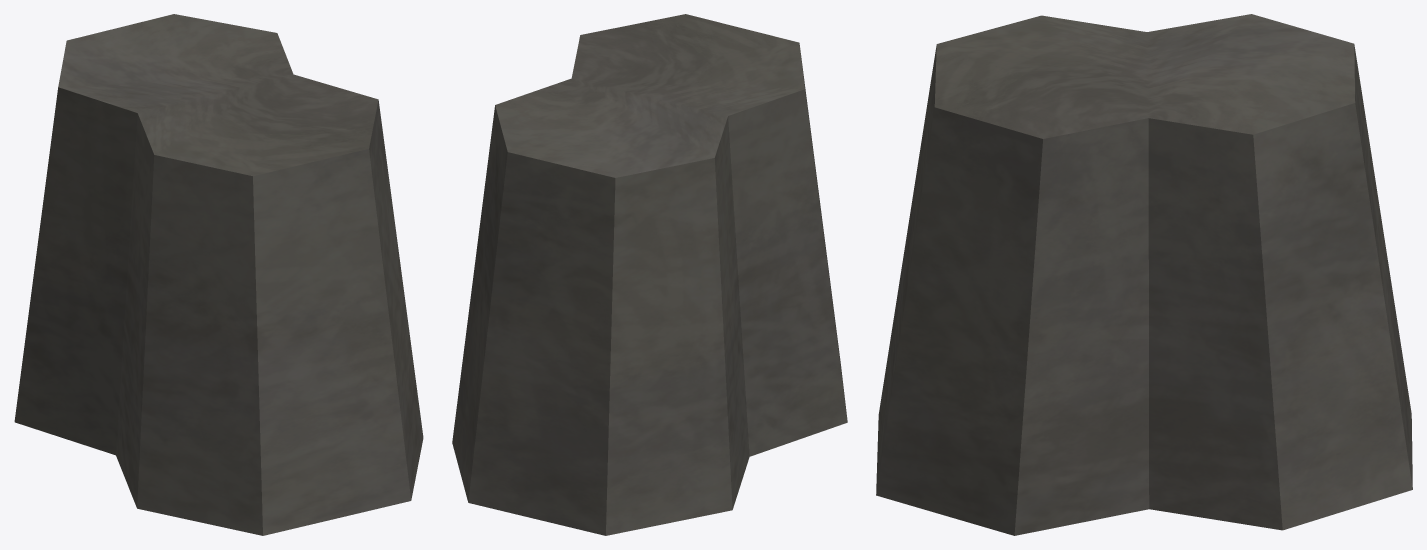
The model's file is ZachMesaRock17.fbx.
The picture shows the model from 3 angles, left to right: view 1: azimuth 30°, elevation 25°; view 2: azimuth 150°, elevation 25°; view 3: azimuth 270°, elevation 25°; orthographic projection. The views are drawn at different scales.
Visible parts, largest first — view 1: ZachMesaRock17; view 2: ZachMesaRock17; view 3: ZachMesaRock17.
Part boxes in pixels (x1,y1,x2,y2): ZachMesaRock17: [14, 14, 423, 535]; ZachMesaRock17: [452, 14, 847, 535]; ZachMesaRock17: [876, 14, 1412, 535].
Size of the model in its own units: 1.81 by 2 by 2.57.
